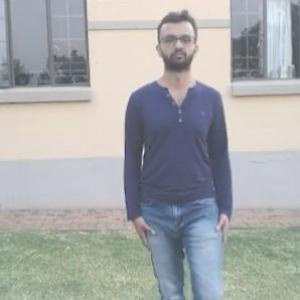follow: (123, 21, 230, 283)
